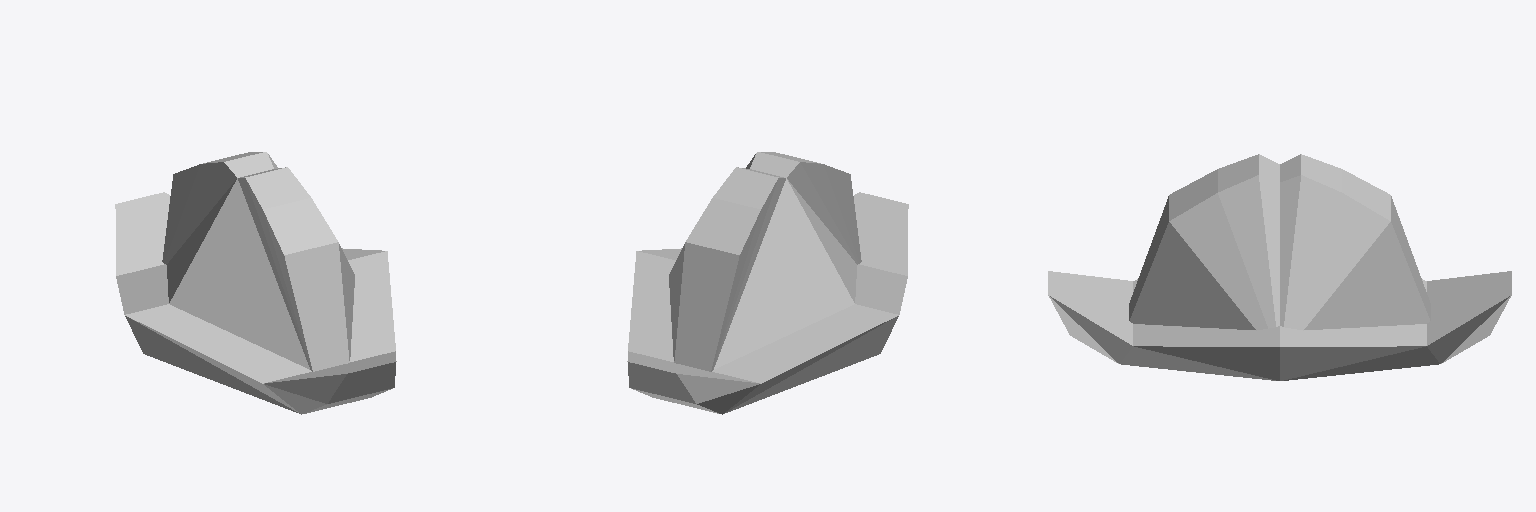
The model's file is sombreroPirata.obj.
The picture shows the model from 3 angles: view 1: azimuth 30°, elevation 25°; view 2: azimuth 150°, elevation 25°; view 3: azimuth 270°, elevation 25°; orthographic projection.
Visible parts, largest first — view 1: Cube.001, Cube; view 2: Cube.001, Cube; view 3: Cube.001, Cube.
Part boxes in pixels (left/top/right/bottom): Cube.001: left=162, top=152, right=354, bottom=371; Cube: left=115, top=192, right=396, bottom=414; Cube.001: left=669, top=152, right=861, bottom=371; Cube: left=627, top=192, right=908, bottom=414; Cube.001: left=1129, top=154, right=1430, bottom=330; Cube: left=1048, top=271, right=1511, bottom=380.
Bounding box in the file's own units: 2.08 × 1.38 × 3.18.